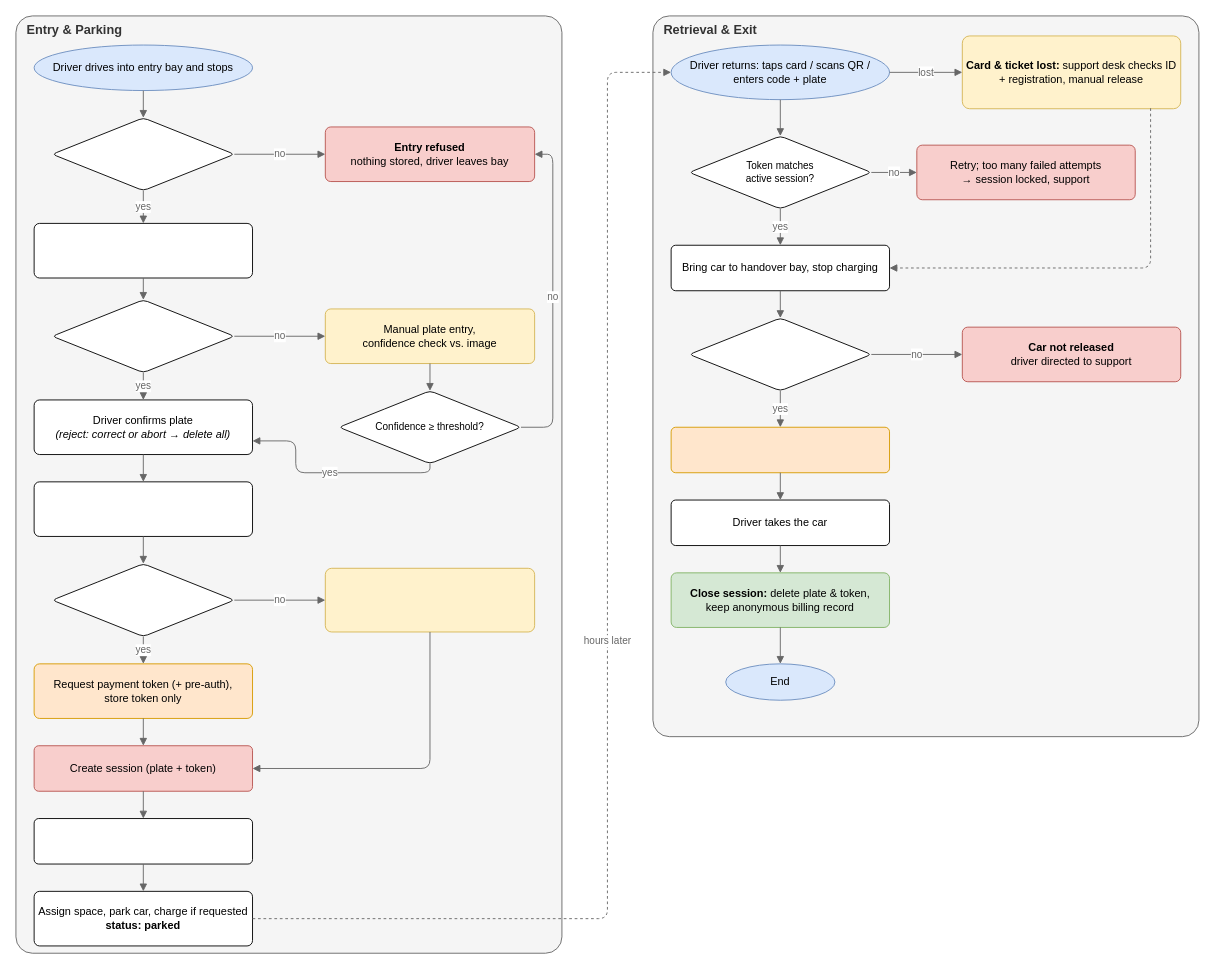
The diagram is 1215 pixels wide and 969 high, and some of its shapes have lost their labels. The shapes that lost their labels are listed below. From the top down, each one's centre as x and y in pixels, then its label:
At pixel 142 154: "Vehicle eligible? (type, size)".
At pixel 143 250: "Capture plate image, extract plate text, discard image".
At pixel 142 336: "Plate recognized? (max. 3 retries)".
At pixel 779 354: "Plate matches session? (2nd check)".
At pixel 780 449: "Calculate fee, settle payment".
At pixel 143 508: "Show tariff, support hours, privacy notice; optionally select charging".
At pixel 142 600: "Card used & provider available?".
At pixel 429 599: "Ticket path: random token, store hash only, print ticket (QR + code)".
At pixel 143 841: "Driver leaves bay, system verifies bay is empty".
